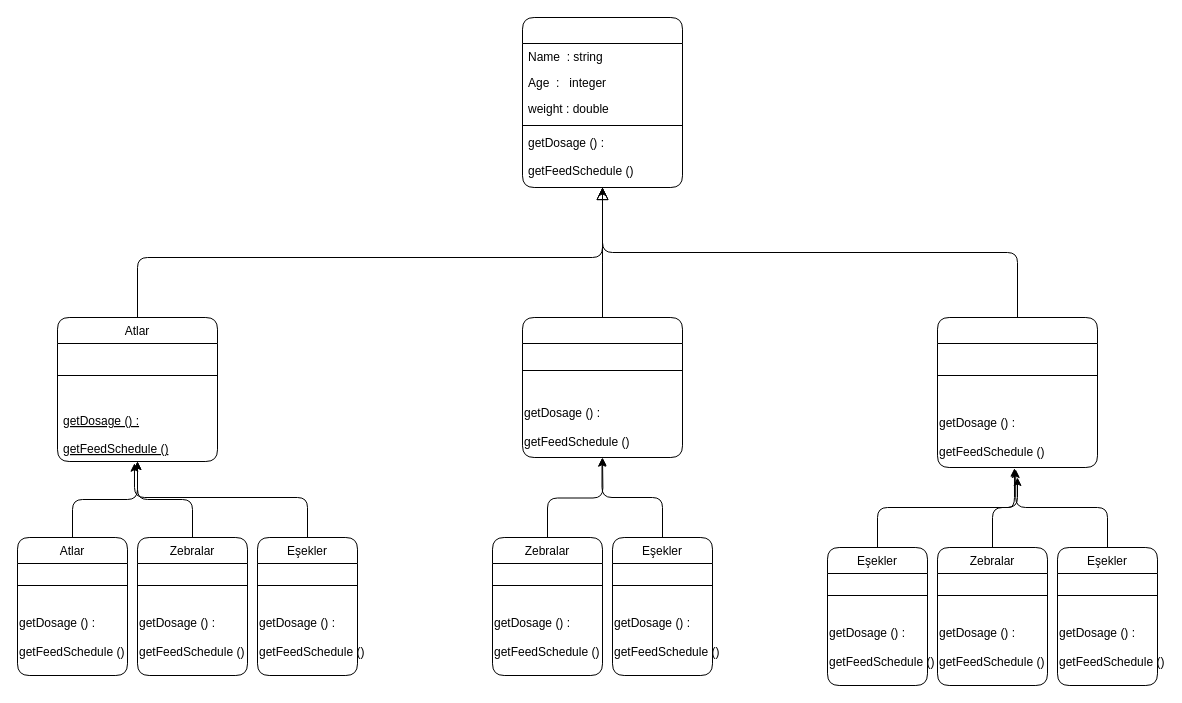
Some shapes in this 1182 by 703 pixel diagram are drawn without their labels. The box of each missing label's shape, as (x1, y1, x2, y2) in pixels:
Hayvanlar: (522, 16, 682, 188)
Kedigiller: (522, 316, 682, 458)
Sürüngenler: (936, 316, 1098, 468)
